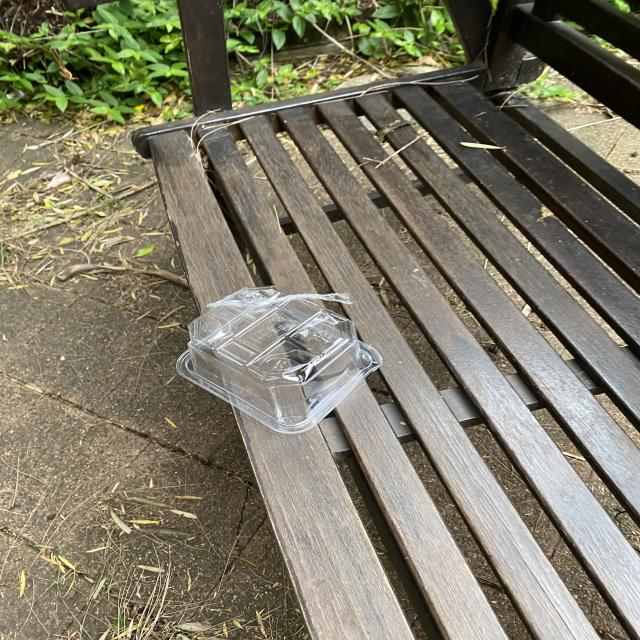cup: (175, 286, 382, 435)
